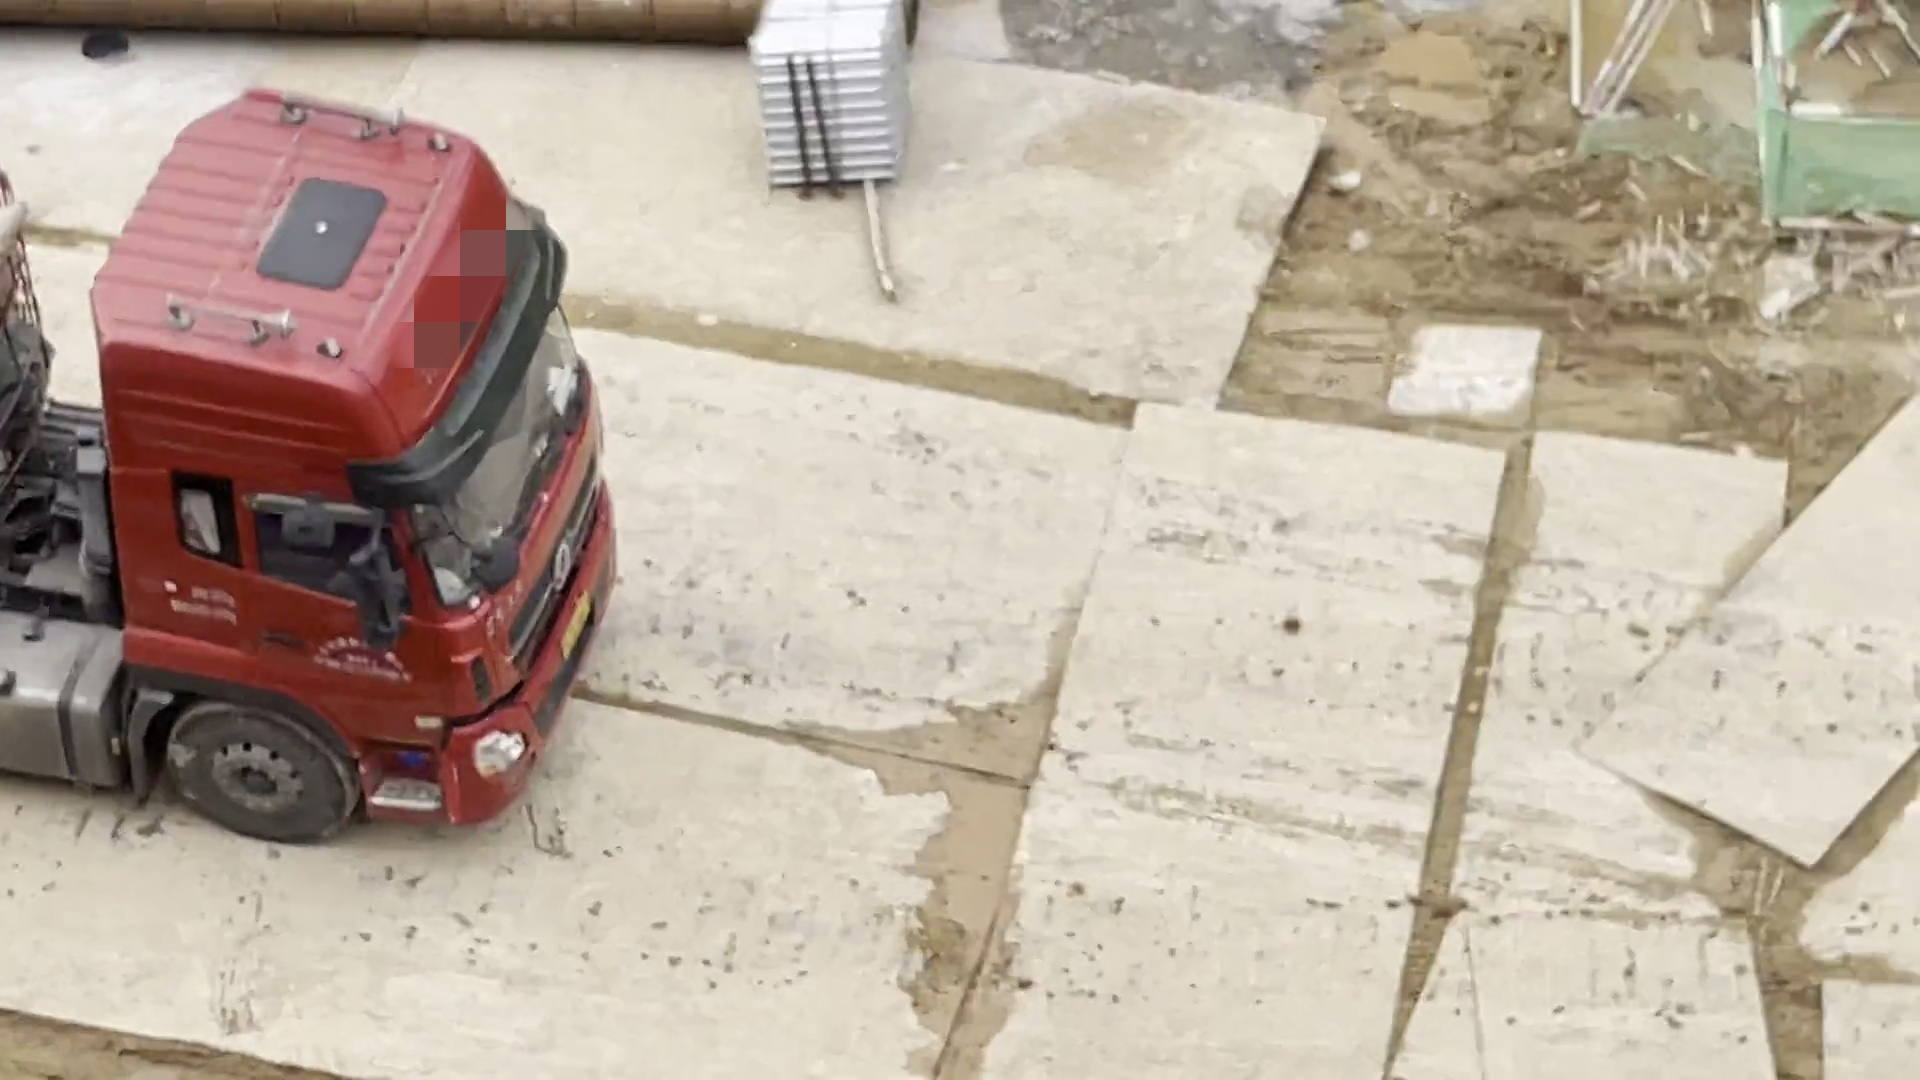scaffold: (737, 1, 938, 204)
